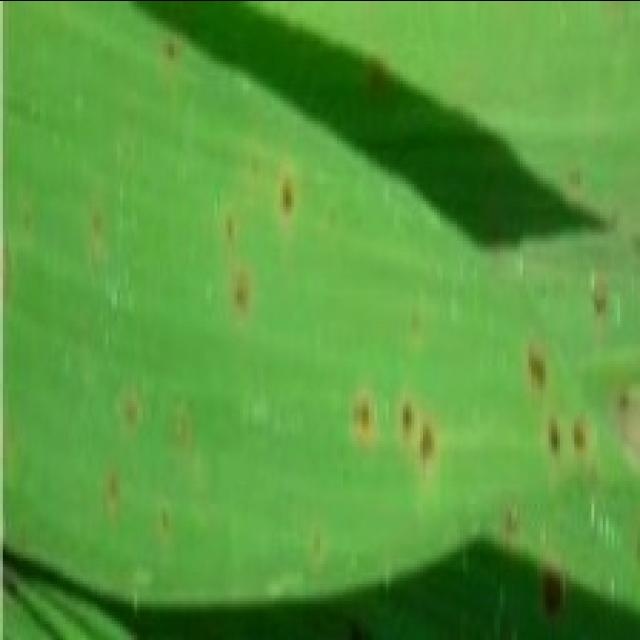Unhealthy: (396, 390, 443, 491), (541, 405, 573, 476), (524, 335, 557, 402), (536, 551, 567, 621), (227, 254, 258, 321), (350, 393, 378, 449), (364, 49, 394, 101), (569, 408, 595, 465), (114, 389, 143, 437), (171, 398, 194, 458), (305, 520, 331, 572), (589, 275, 615, 322), (503, 501, 522, 561), (151, 31, 184, 64), (244, 140, 265, 188), (279, 169, 298, 219), (611, 385, 633, 426), (159, 496, 175, 545), (222, 202, 238, 251), (89, 199, 109, 238), (106, 465, 121, 514), (565, 160, 587, 193)
